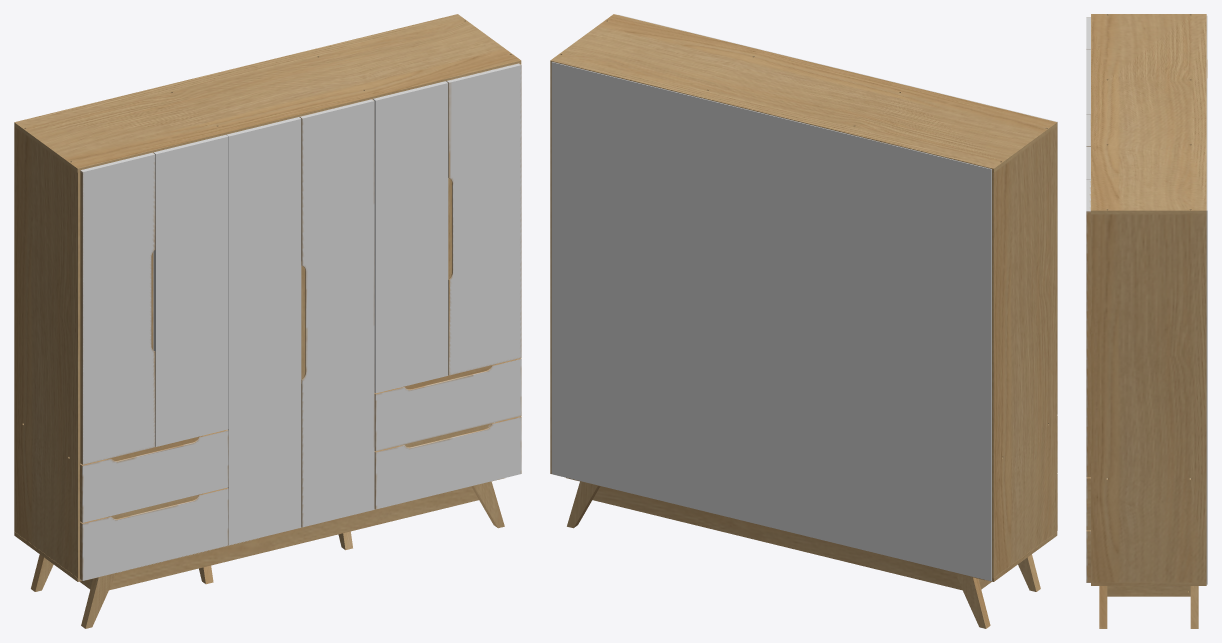
The picture shows the model from 3 angles, left to right: view 1: azimuth 30°, elevation 25°; view 2: azimuth 150°, elevation 25°; view 3: azimuth 270°, elevation 25°; orthographic projection. The views are drawn at different scales.
Visible parts, largest first — view 1: A742336-PISOSXXXPI; view 2: A742336-PISOSXXXPI; view 3: A742336-PISOSXXXPI.
Part boxes in pixels (left/top/right/bottom): A742336-PISOSXXXPI: left=14, top=14, right=521, bottom=628; A742336-PISOSXXXPI: left=550, top=14, right=1057, bottom=628; A742336-PISOSXXXPI: left=1086, top=14, right=1207, bottom=628.
Bounding box in the file's own units: 17.92 × 18 × 4.66.
1 material, 1 textured.
